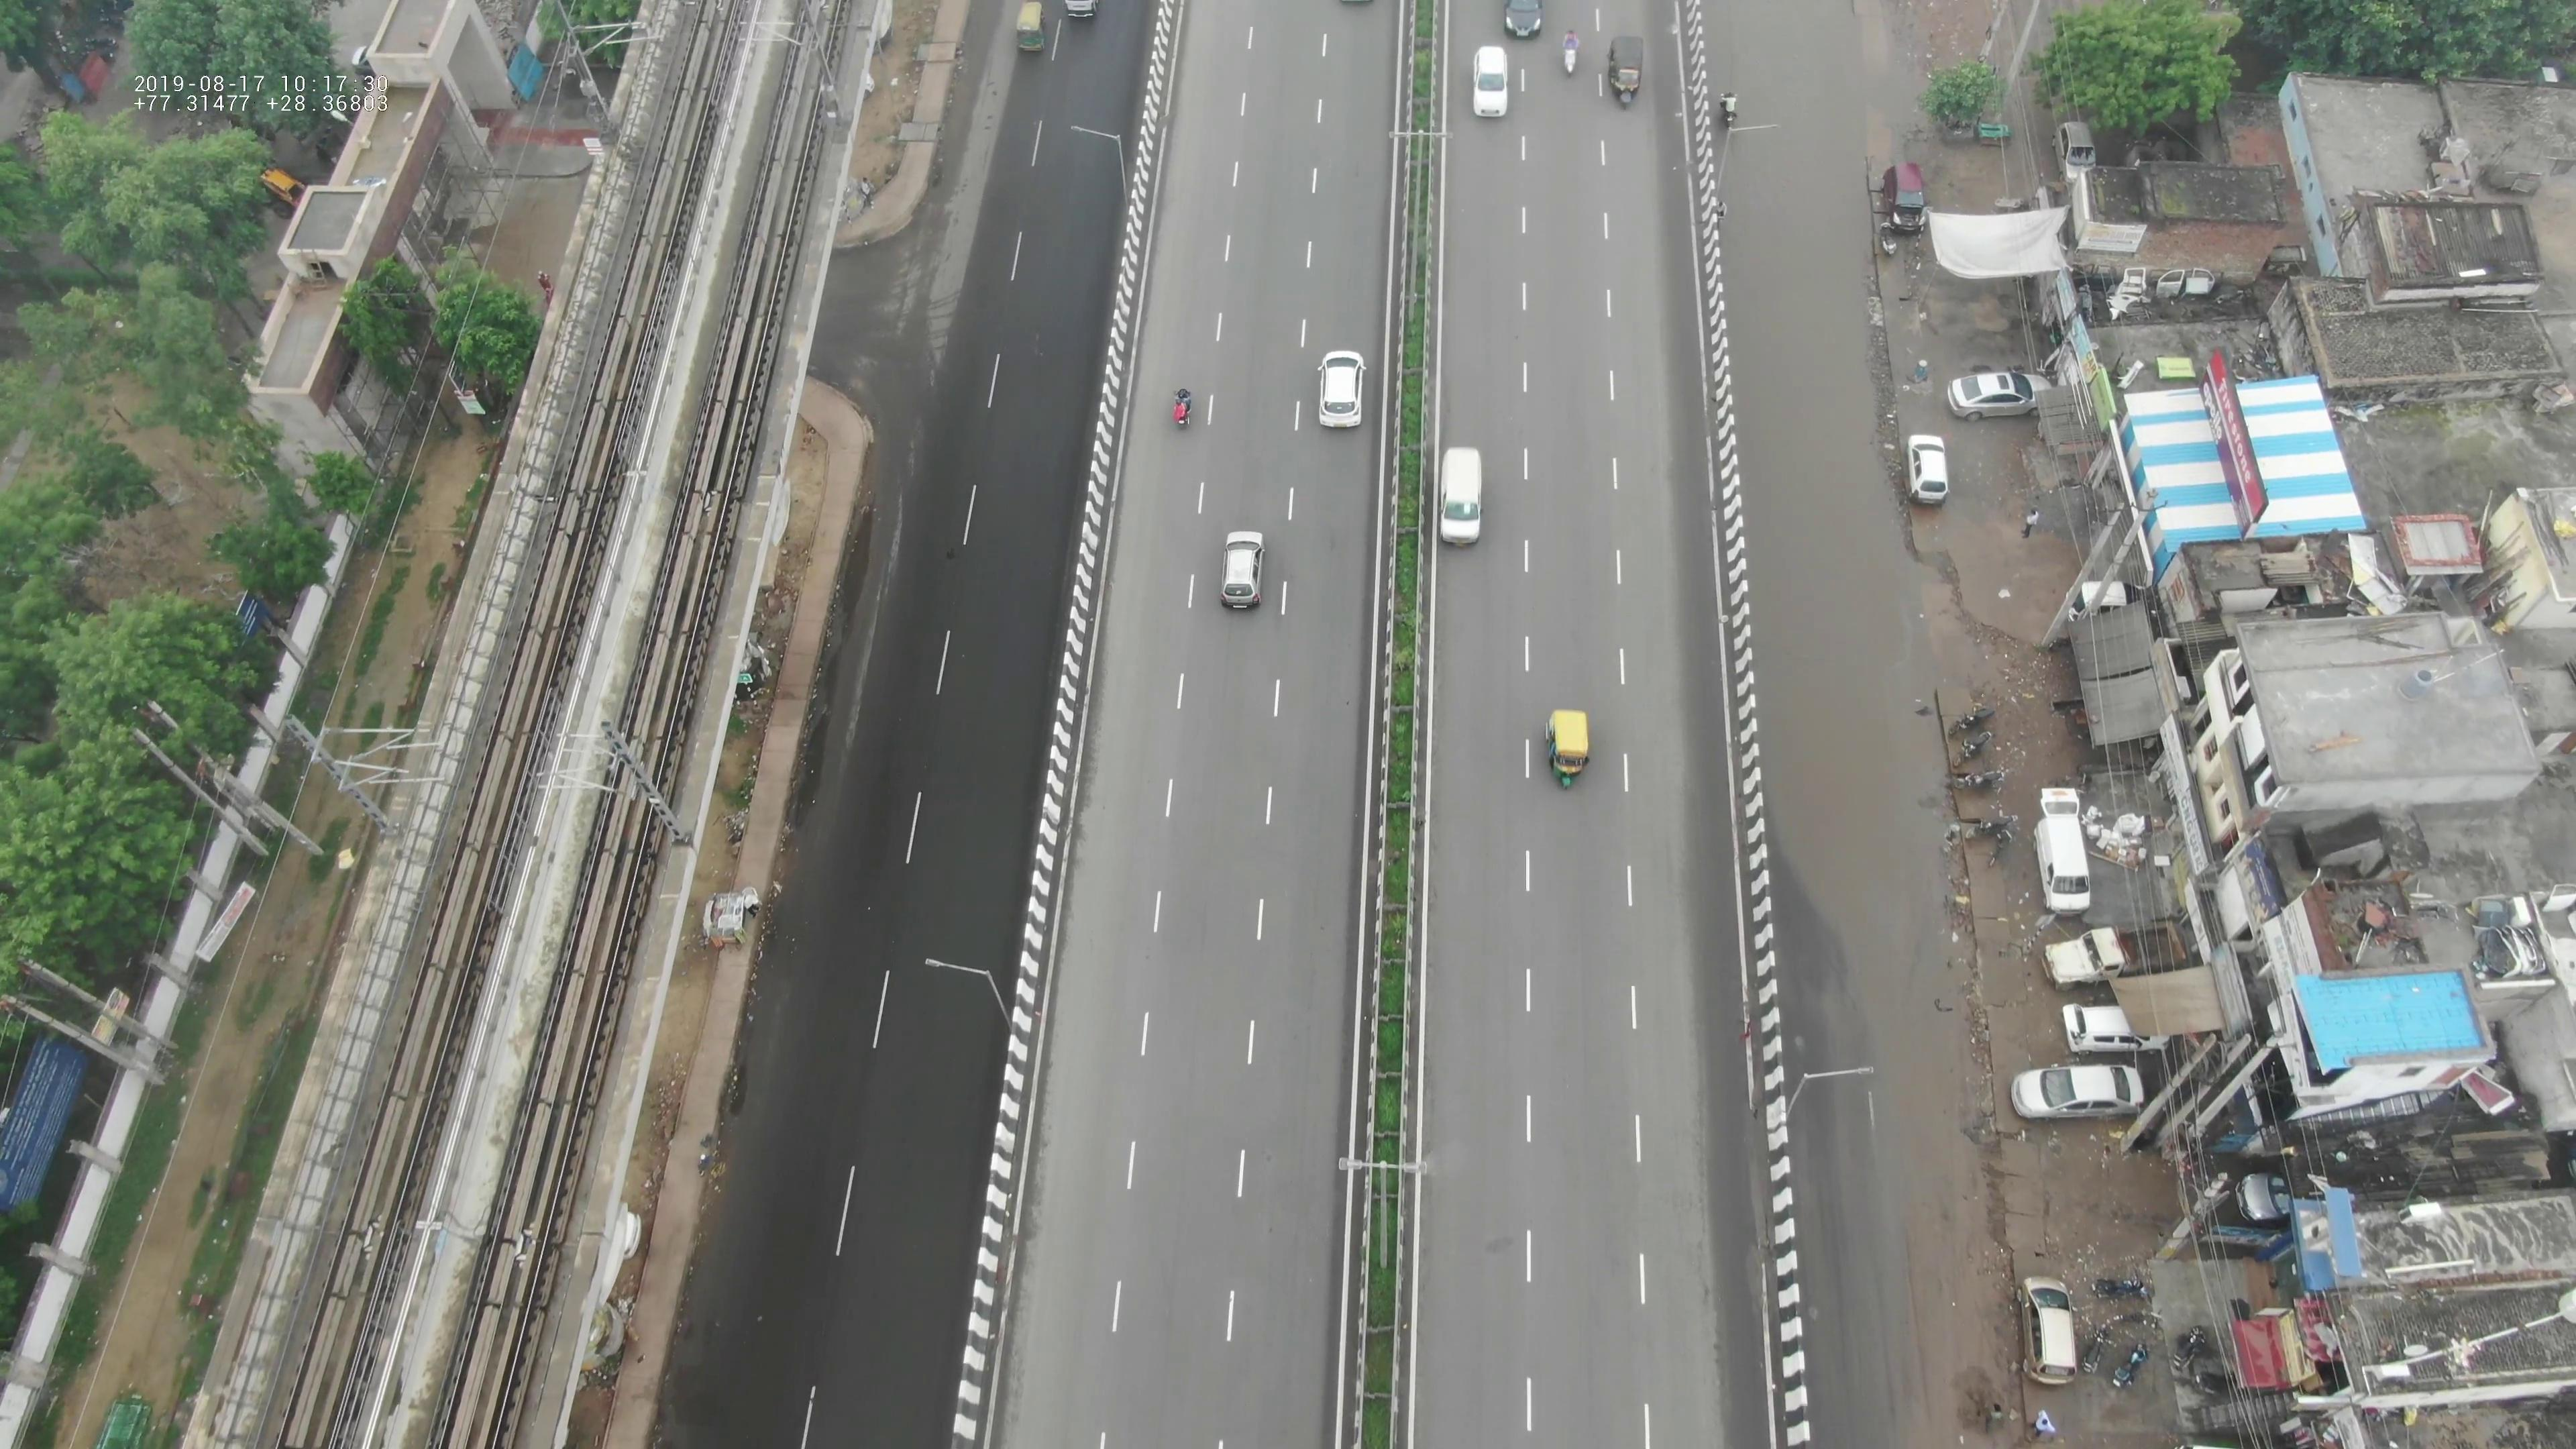Waterlogging: (1752, 591, 1960, 1111), (1713, 53, 1868, 575), (771, 506, 883, 826)
